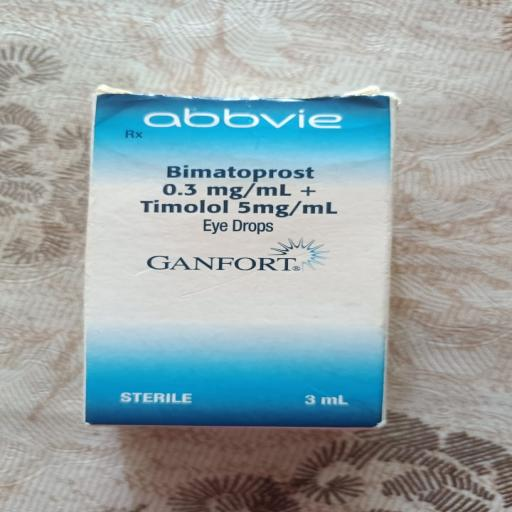ganfort eye drops: (90, 80, 436, 449)
